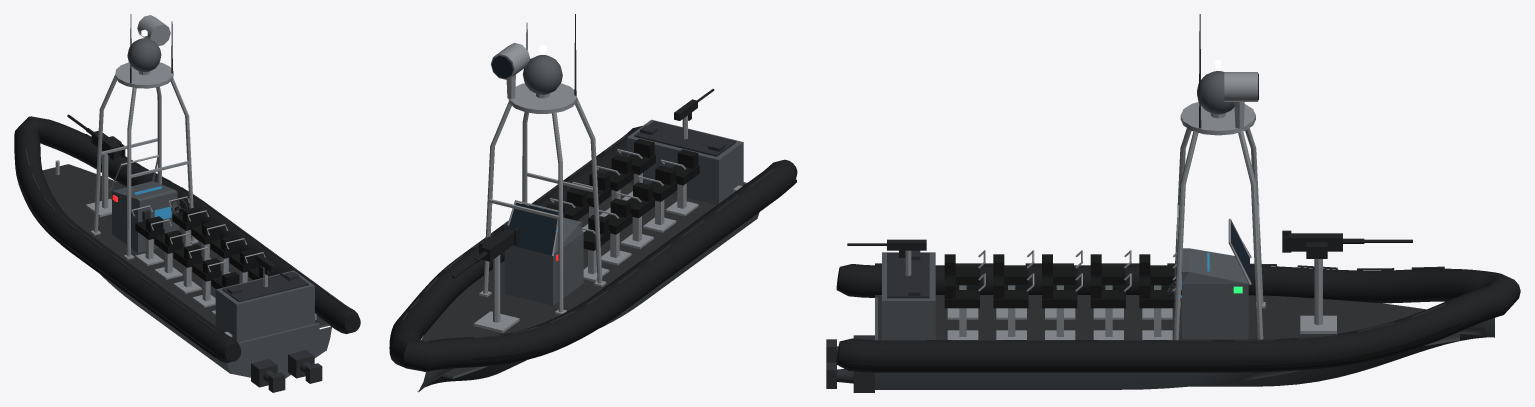
Rendered from rhib.glb.
3 views of the same model, side by side, from view 1: azimuth 30°, elevation 25°; view 2: azimuth 150°, elevation 25°; view 3: azimuth 270°, elevation 25° (orthographic). The views are drawn at different scales.
Visible parts, largest first — view 1: rhib_static; view 2: rhib_static; view 3: rhib_static.
Part boxes in pixels (bbox=[...]): rhib_static: bbox=[14, 14, 360, 392]; rhib_static: bbox=[389, 14, 797, 392]; rhib_static: bbox=[826, 14, 1520, 392].
Size of the model in its own units: 3.51 by 6.53 by 11.43.
15 materials, 1 textured.
